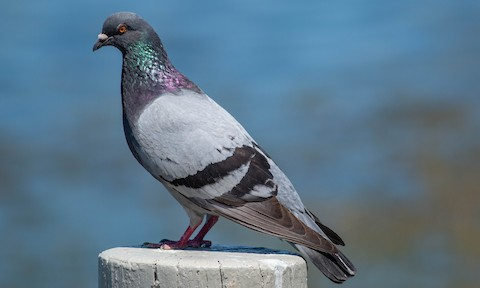pigeon: (90, 7, 363, 286)
